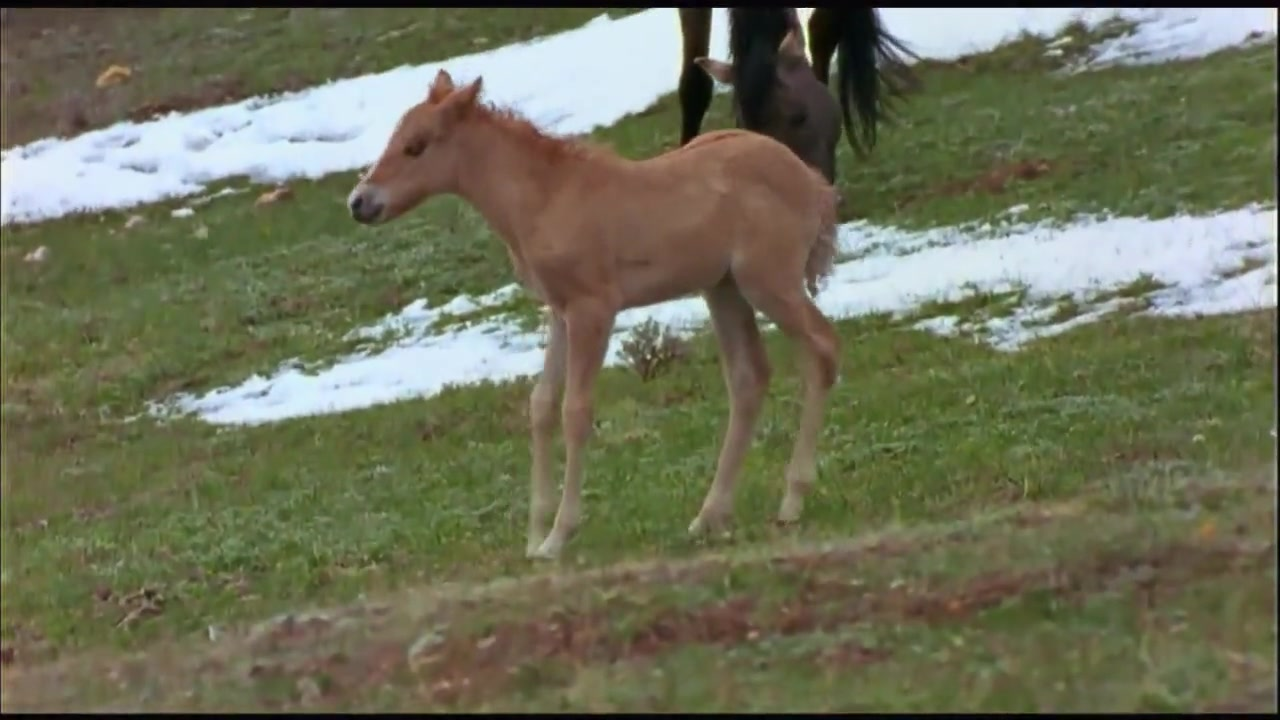horse: (347, 69, 848, 564)
